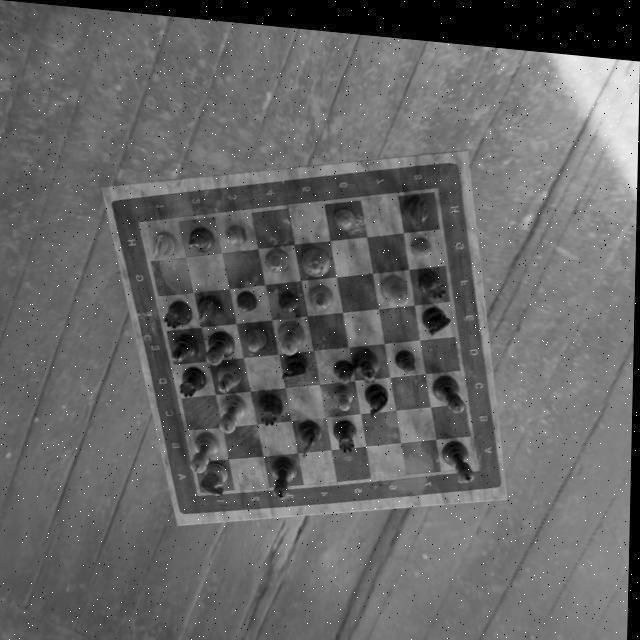chess-table-corners: (420, 165, 451, 201), (132, 208, 156, 240), (464, 444, 491, 472), (190, 479, 212, 503)
